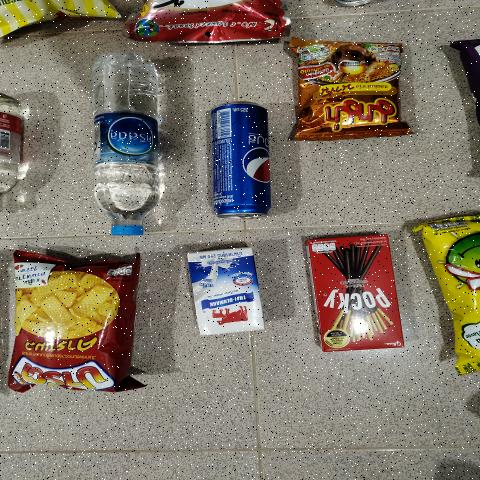crystal: (86, 50, 167, 239)
mama: (294, 44, 406, 134)
party_red: (19, 256, 132, 393)
pepsi_blue: (207, 97, 271, 222)
pokki: (303, 234, 399, 349)
thai_denmark: (182, 250, 271, 339)
